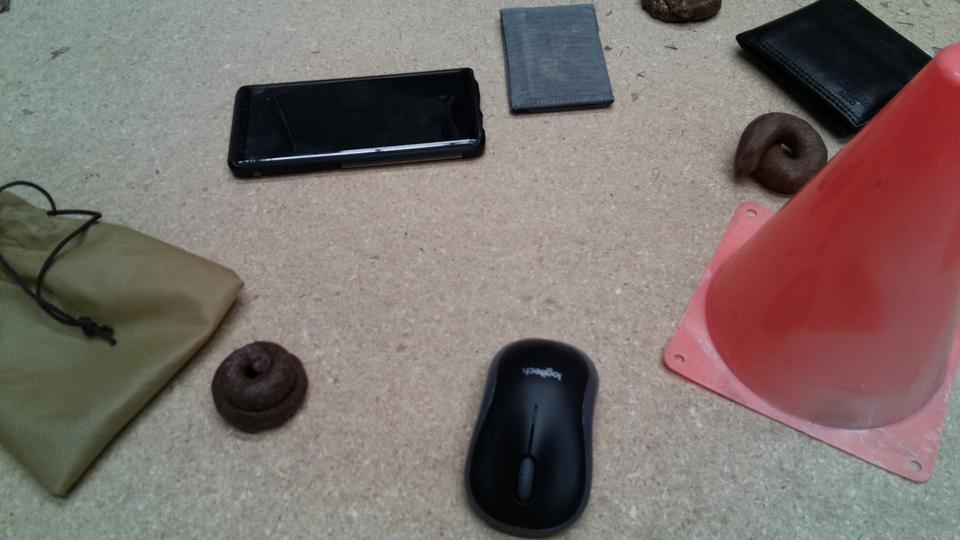poop: (208, 338, 311, 434), (729, 109, 826, 198), (637, 1, 725, 27)
